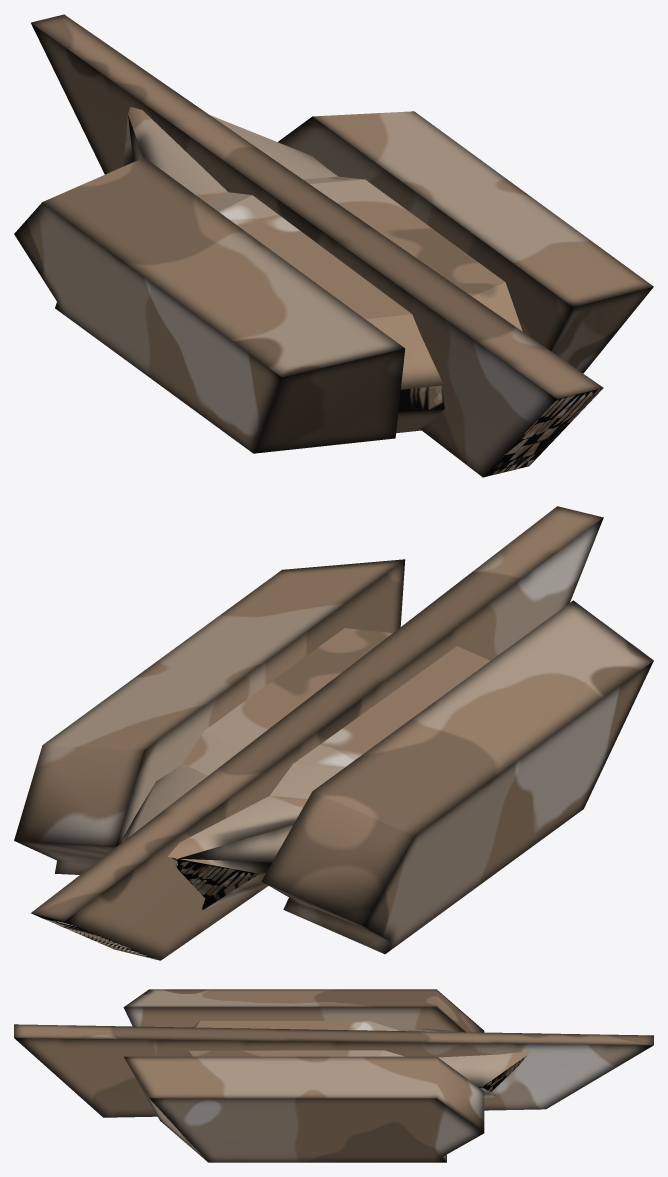
The model's file is F35egerDestructionPart1.fbx.
3 views of the same model, one above another, from view 1: azimuth 30°, elevation 25°; view 2: azimuth 150°, elevation 25°; view 3: azimuth 270°, elevation 25° (orthographic). The views are drawn at different scales.
Parts seen in each view (by area): view 1: Flieger__Rumpf_; view 2: Flieger__Rumpf_; view 3: Flieger__Rumpf_.
Part boxes in pixels (<box>): Flieger__Rumpf_: <box>14,14,653,477</box>; Flieger__Rumpf_: <box>14,506,653,960</box>; Flieger__Rumpf_: <box>14,989,653,1162</box>.
Bounding box in the file's own units: 5.53 × 2.03 × 13.72.
Materials: 1 (1 with a texture image).
